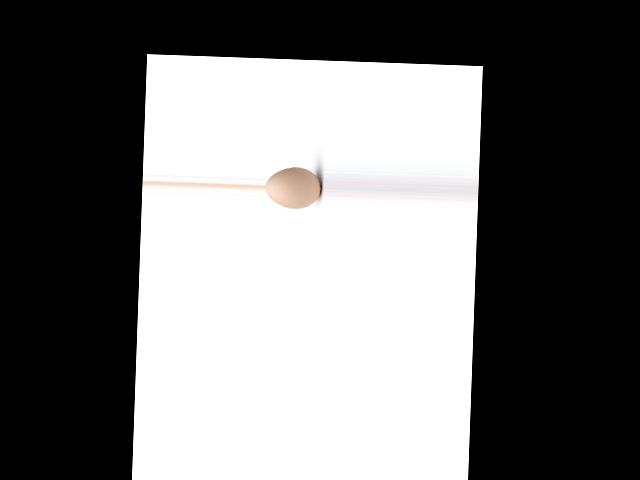egg: (265, 166, 321, 209)
